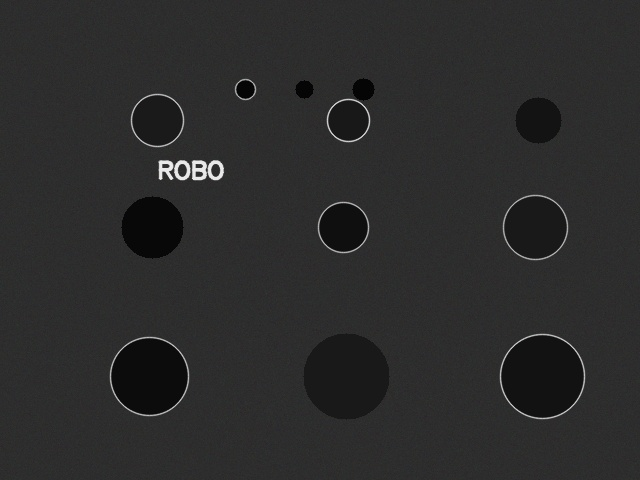hole: (303, 333, 389, 419), (500, 334, 584, 418), (110, 337, 188, 415), (503, 195, 567, 259), (121, 196, 183, 258), (131, 94, 183, 146), (318, 202, 368, 252), (515, 97, 561, 143), (327, 99, 369, 141), (352, 78, 374, 100), (235, 79, 255, 99), (295, 80, 313, 98)
